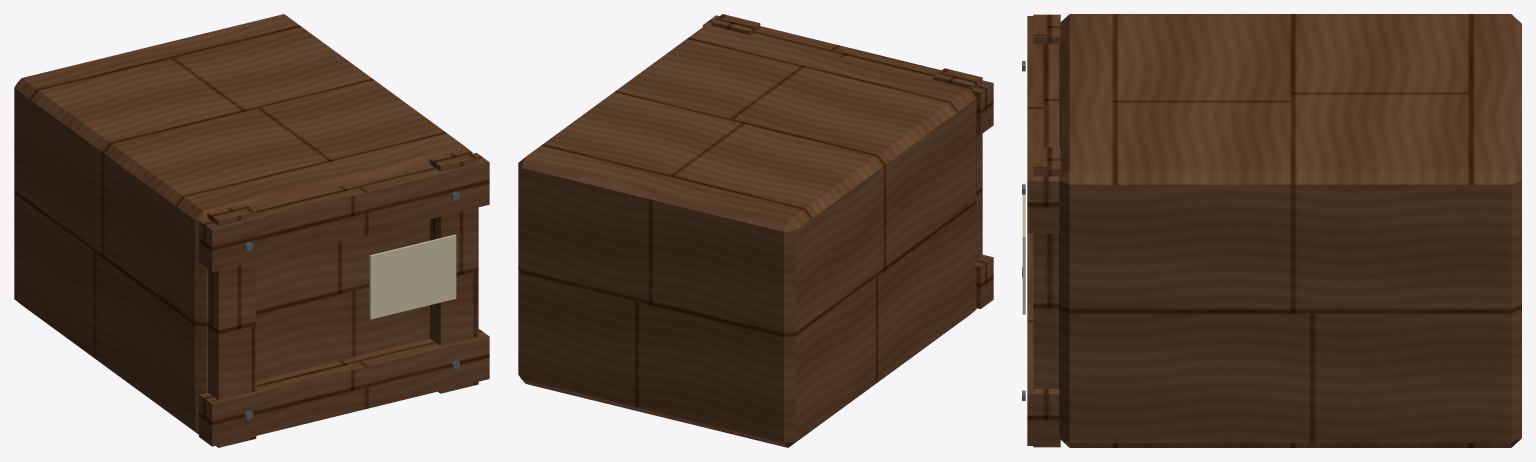
The model's file is wood-crate-small.glb.
3 views of the same model, side by side, from view 1: azimuth 30°, elevation 25°; view 2: azimuth 150°, elevation 25°; view 3: azimuth 270°, elevation 25° (orthographic). The views are drawn at different scales.
Parts seen in each view (by area): view 1: Crate boards, Crate rail.001, Crate rail, Crate front batten, Small shipping label, Crate front batten.001; view 2: Crate boards, Crate rail.001, Crate front batten, Crate rail, Crate front batten.001; view 3: Crate boards, Crate rail.001, Crate front batten.001, Crate rail, Crate front batten.
Part boxes in pixels (box(x1,y1,x2,y2)): Crate boards: box(14, 14, 472, 434); Crate rail.001: box(199, 153, 489, 272); Crate rail: box(199, 329, 489, 446); Crate front batten: box(207, 203, 256, 447); Small shipping label: box(369, 234, 456, 319); Crate front batten.001: box(429, 149, 478, 393); Crate boards: box(518, 24, 976, 447); Crate rail.001: box(703, 15, 993, 134); Crate front batten: box(933, 68, 982, 308); Crate rail: box(976, 255, 993, 308); Crate front batten.001: box(711, 14, 760, 35); Crate boards: box(1059, 14, 1521, 447); Crate rail.001: box(1027, 16, 1059, 232); Crate front batten.001: box(1033, 147, 1060, 447); Crate rail: box(1027, 233, 1059, 445); Crate front batten: box(1033, 14, 1060, 46).
Bounding box in the file's own units: 0.55 × 0.43 × 0.702.
Materials: 3 (2 with a texture image).
